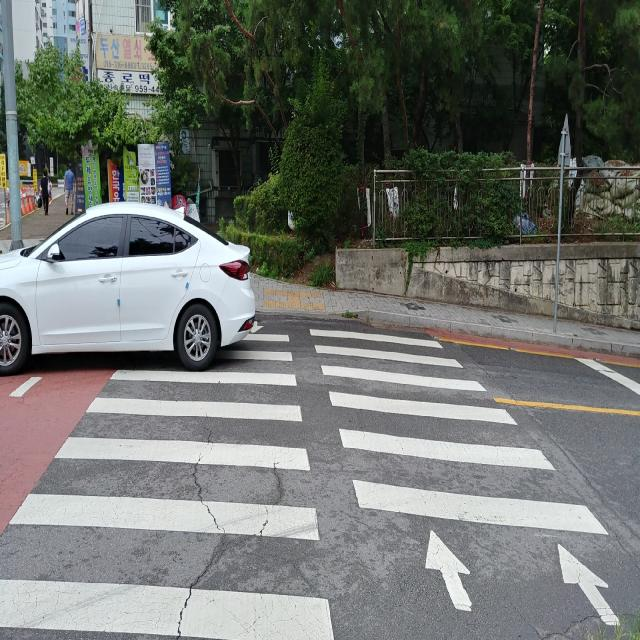횡단보도: (0, 327, 621, 640)
